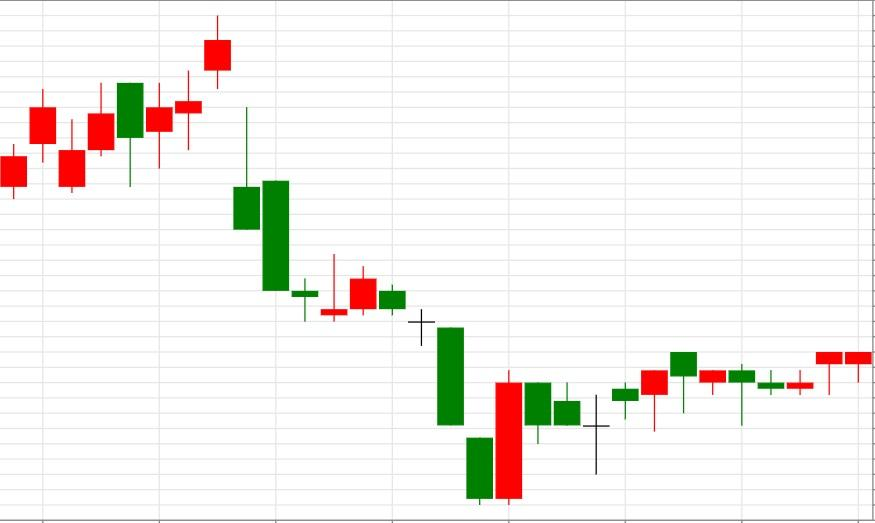bullish_engulfing_rise: (349, 267, 524, 504)
